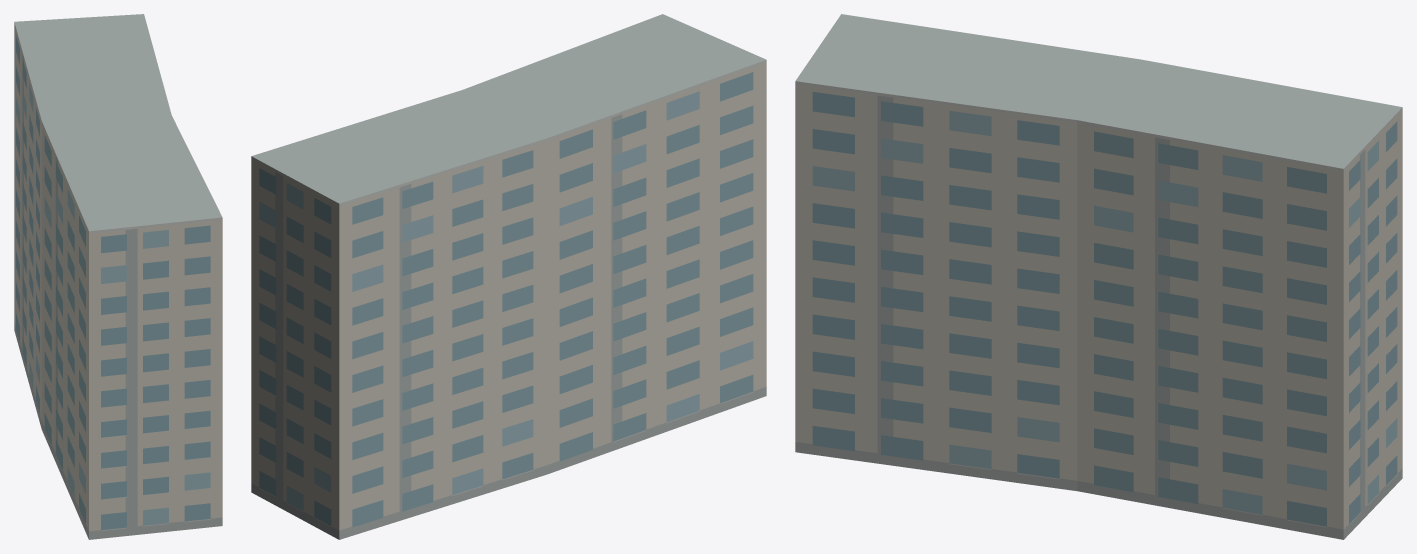
File: residential-3bb8f0b2-5fad-4dc1-92f7-620d47f1ab1a.glb
3 renders of one model, left to right at view 1: azimuth 30°, elevation 25°; view 2: azimuth 150°, elevation 25°; view 3: azimuth 270°, elevation 25°, orthographic. The views are drawn at different scales.
Visible parts, largest first — view 1: residential-3bb8f0b2-5fad-4dc1-92f7-620d47f1ab1a.tmp; view 2: residential-3bb8f0b2-5fad-4dc1-92f7-620d47f1ab1a.tmp; view 3: residential-3bb8f0b2-5fad-4dc1-92f7-620d47f1ab1a.tmp.
Boxes of the visible parts, x1,y1,x2,y2 form: residential-3bb8f0b2-5fad-4dc1-92f7-620d47f1ab1a.tmp: [14, 14, 222, 539]; residential-3bb8f0b2-5fad-4dc1-92f7-620d47f1ab1a.tmp: [251, 14, 766, 539]; residential-3bb8f0b2-5fad-4dc1-92f7-620d47f1ab1a.tmp: [795, 14, 1402, 539].
Bounding box in the file's own units: 26.87 × 30 × 44.52.
